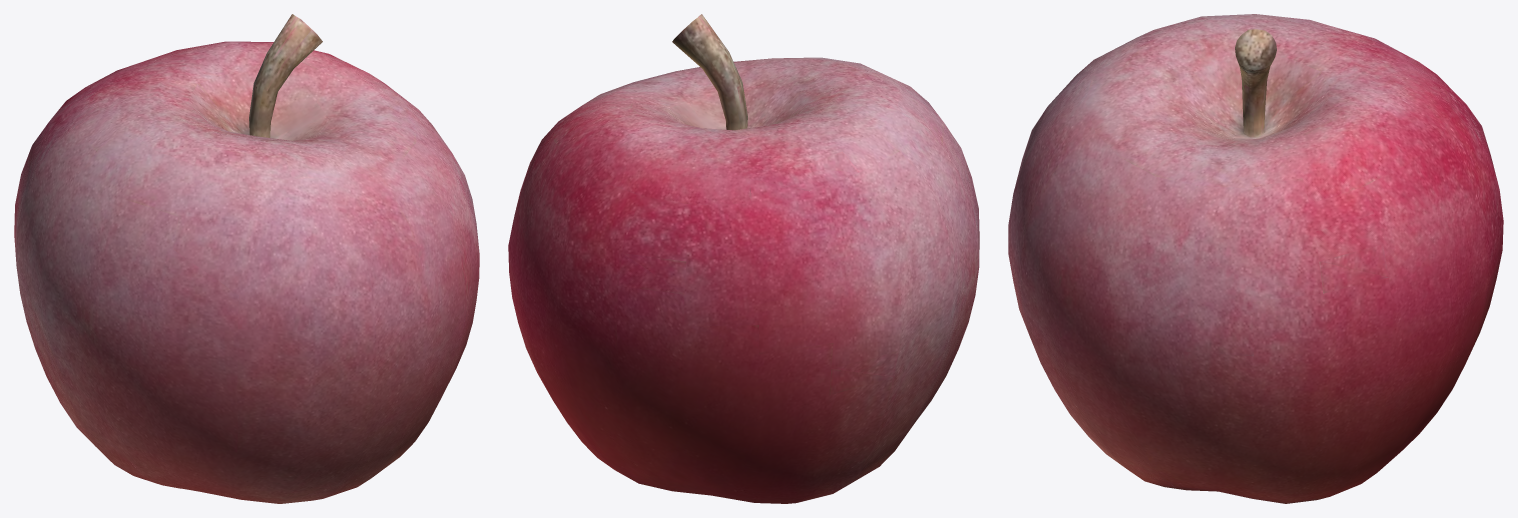
Rendered from apple.glb.
3 views of the same model, side by side, from view 1: azimuth 30°, elevation 25°; view 2: azimuth 150°, elevation 25°; view 3: azimuth 270°, elevation 25° (orthographic). The views are drawn at different scales.
Parts seen in each view (by area): view 1: tripo_node_2f1af55c-f9a8-4d09-af30-fa995d00f12c; view 2: tripo_node_2f1af55c-f9a8-4d09-af30-fa995d00f12c; view 3: tripo_node_2f1af55c-f9a8-4d09-af30-fa995d00f12c.
Part boxes in pixels (bbox=[...]): tripo_node_2f1af55c-f9a8-4d09-af30-fa995d00f12c: bbox=[14, 14, 479, 503]; tripo_node_2f1af55c-f9a8-4d09-af30-fa995d00f12c: bbox=[508, 14, 979, 503]; tripo_node_2f1af55c-f9a8-4d09-af30-fa995d00f12c: bbox=[1008, 14, 1503, 503].
Size of the model in its own units: 0.9785 by 0.998 by 0.9863.
1 material, 1 textured.
